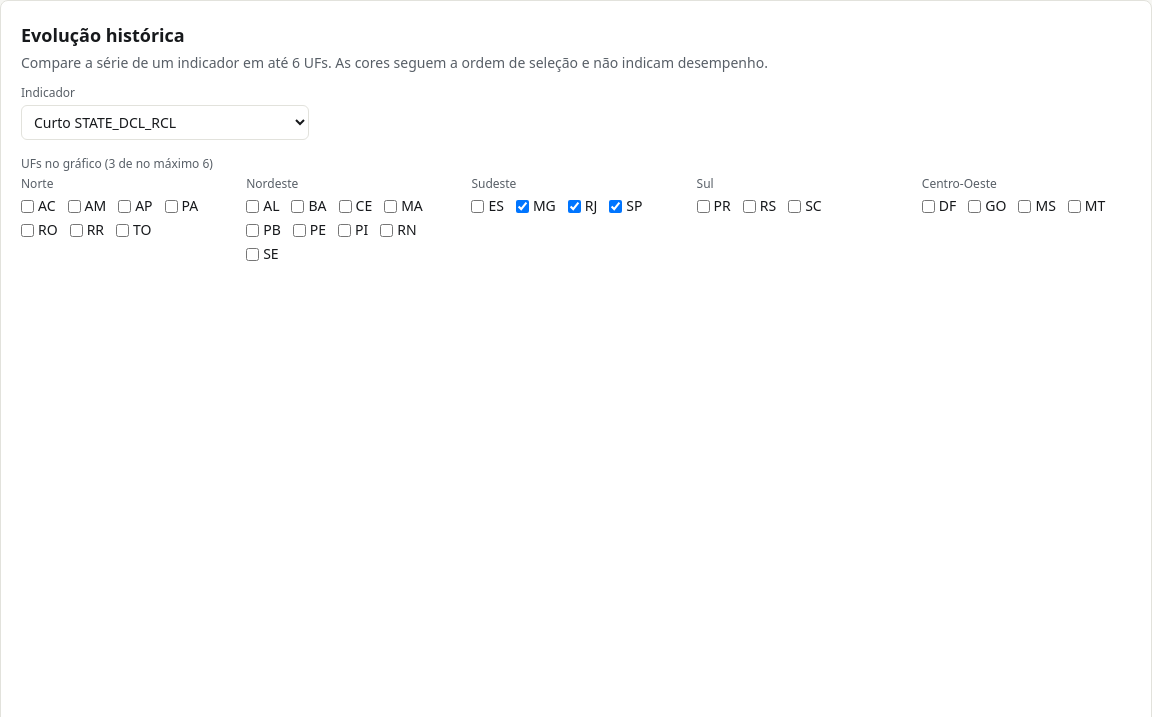
it: StateComparisonPanel › never plots the previous UFs under a failed request
Click the checkbox named "BA (Bahia)" at (298, 206), box left=292, top=200, right=304, bottom=212
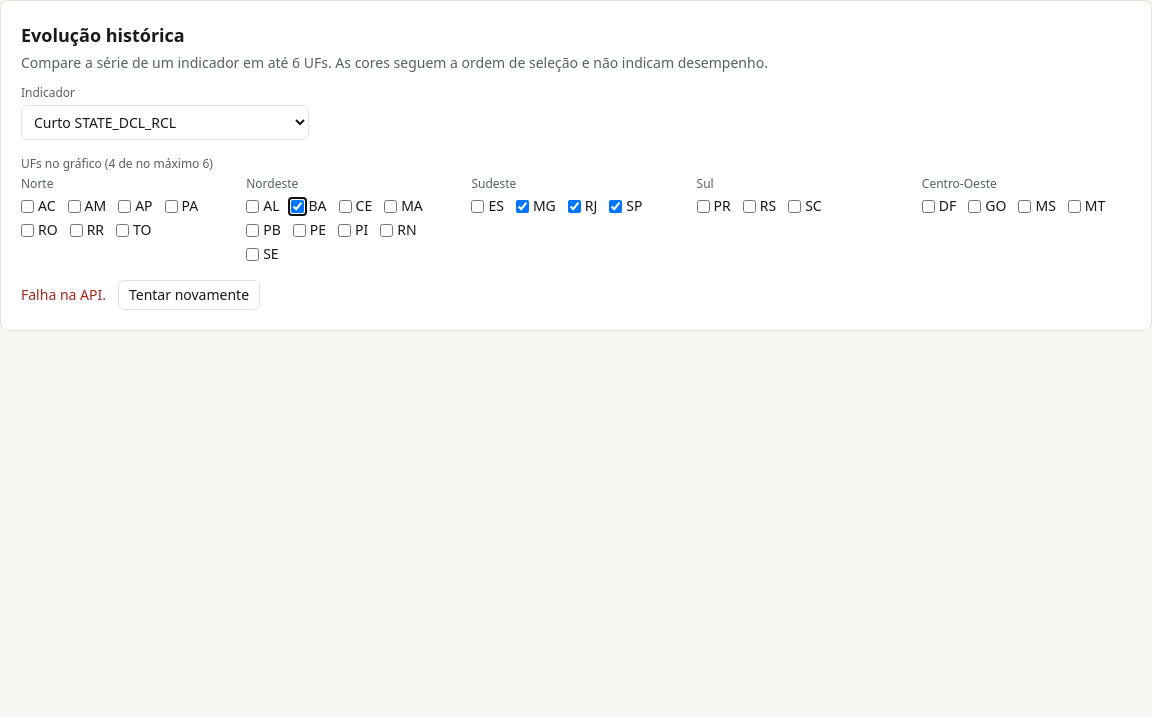
Expected: the text "Falha na API." is shown, left=21, top=285, right=106, bottom=305
